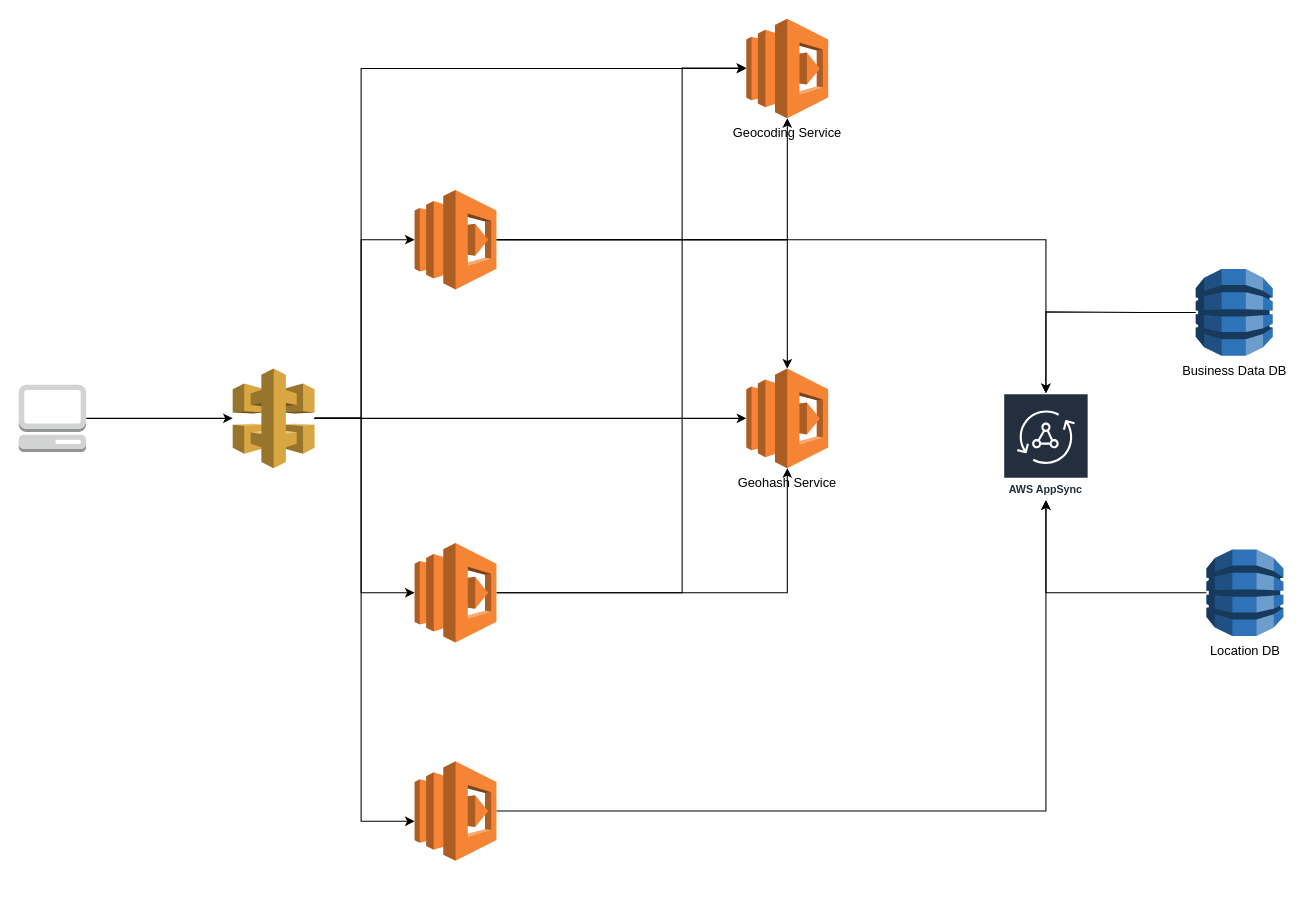
The diagram is 1304 pixels wide and 902 high, and some of its shapes have lost their labels. Here are the shapes that lost their labels. From the top down, the centre of each, then its label:
At (x=455, y=239): "Business Add Service".
At (x=455, y=592): "Search Service".
At (x=455, y=810): "Business Fetch Service".
